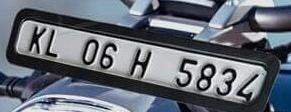0: (79, 37, 99, 67)
3: (214, 67, 236, 96)
4: (235, 73, 258, 100)
5: (174, 56, 197, 88)
6: (98, 41, 117, 70)
8: (195, 62, 216, 93)
H: (128, 47, 152, 79)
K: (27, 23, 46, 54)
L: (44, 27, 61, 58)
